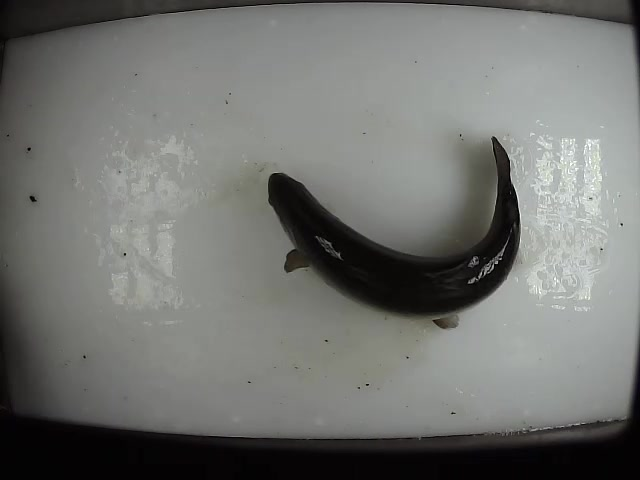fish: (263, 134, 524, 332)
